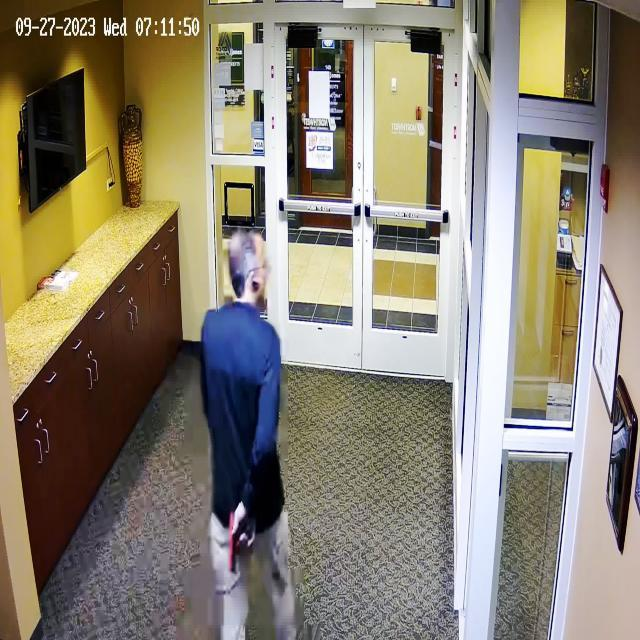Gun: (214, 503, 262, 579)
